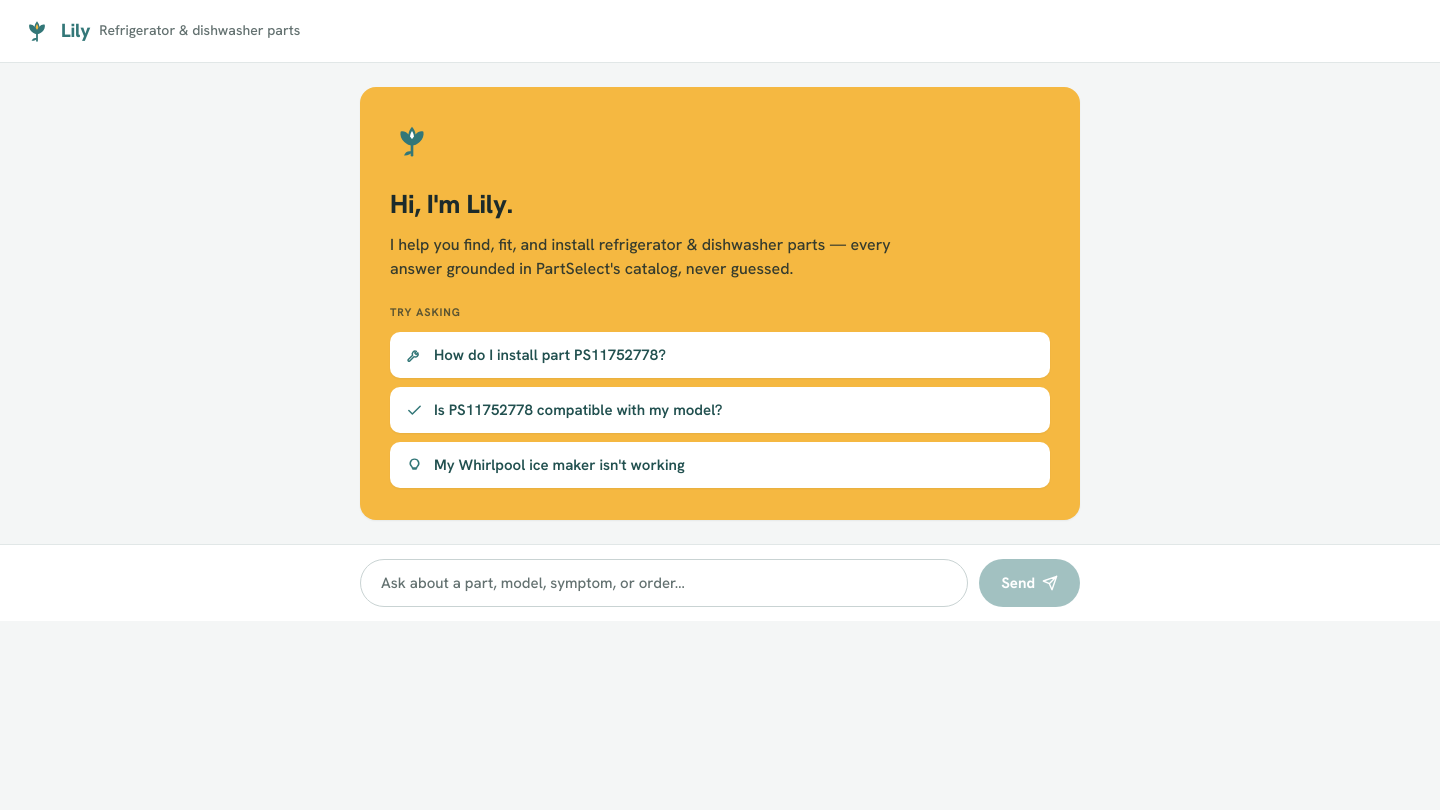
Test: Chat (mocked SSE) › shows assistant head and status chip while loading
In the field named "Message Lily": (664, 583) [360,559,968,607], type "hello"
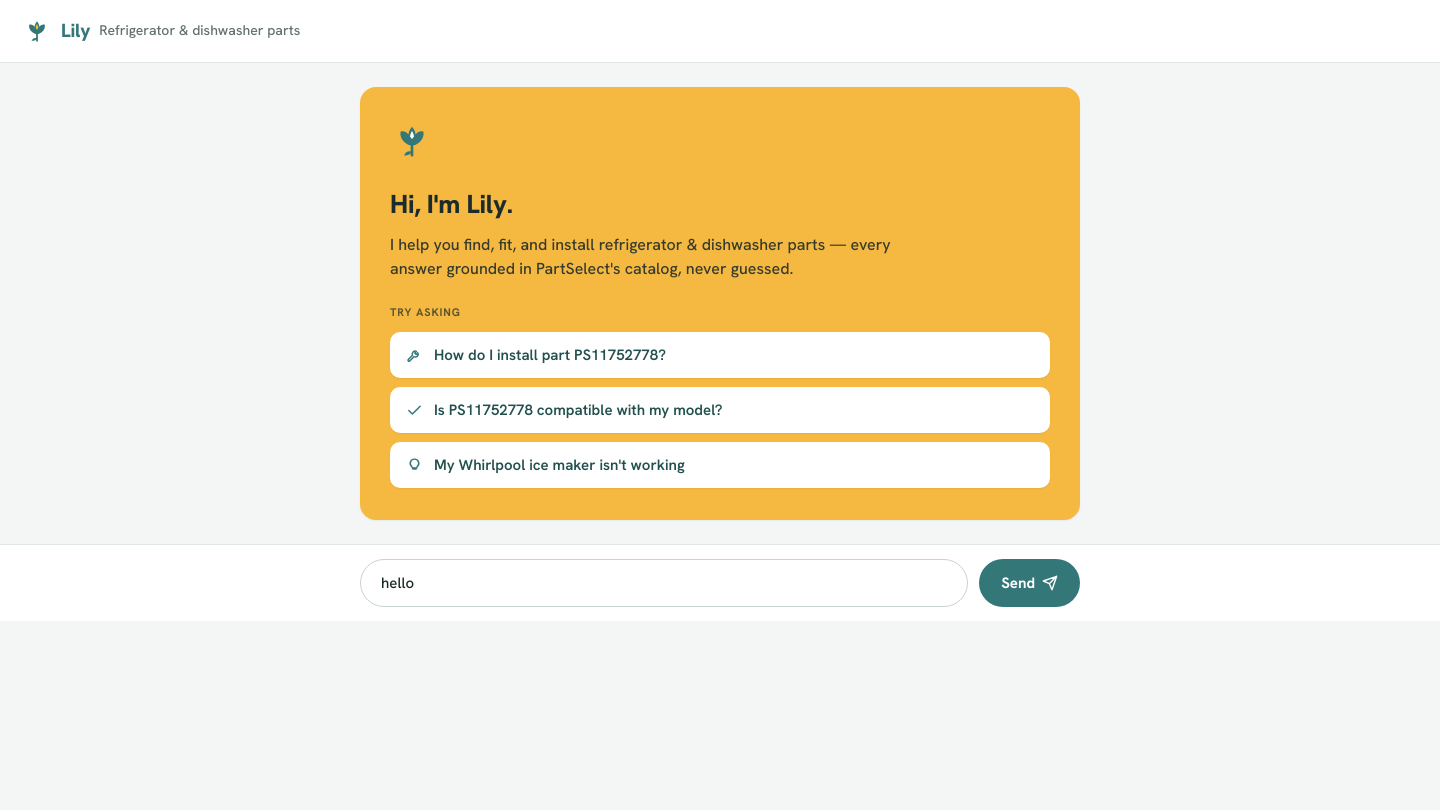
Click the button "Send": (1030, 583) [979,559,1080,607]
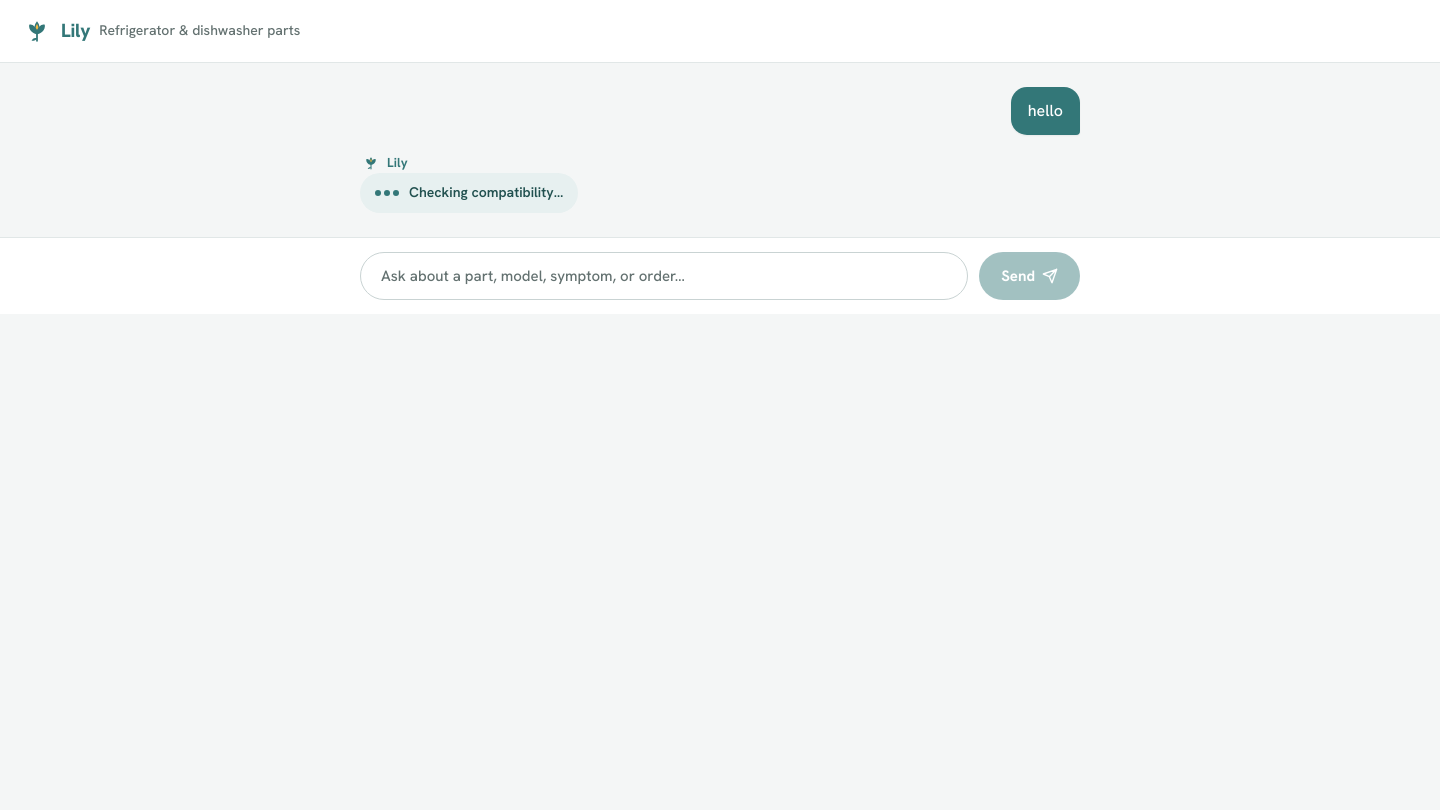
Expected: the element with test id "assistant-head" is shown, [362,154,408,172]
Expected: the message with test id "status-chip" shows "Checking compatibility", [409,183,563,201]
